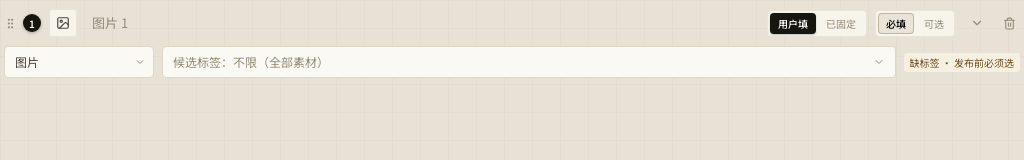
Scenario: 槽位卡片 › 点「更多设置」展开的是低频项
The width and height of the screenshot is (1024, 160).
What coordinates should you click on to do the following:
click the button named "展开更多设置"
I would click on:
 (977, 23)
Its box is x1=963 y1=9 x2=991 y2=37.
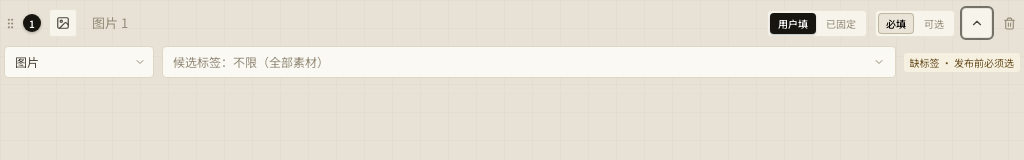
Expected: the button named "收起更多设置" is shown, x1=963 y1=9 x2=991 y2=37
